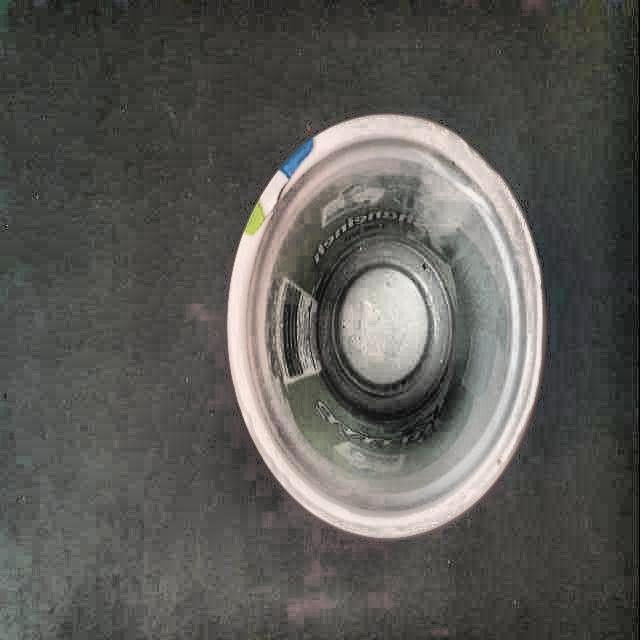plastic: (228, 115, 545, 537)
